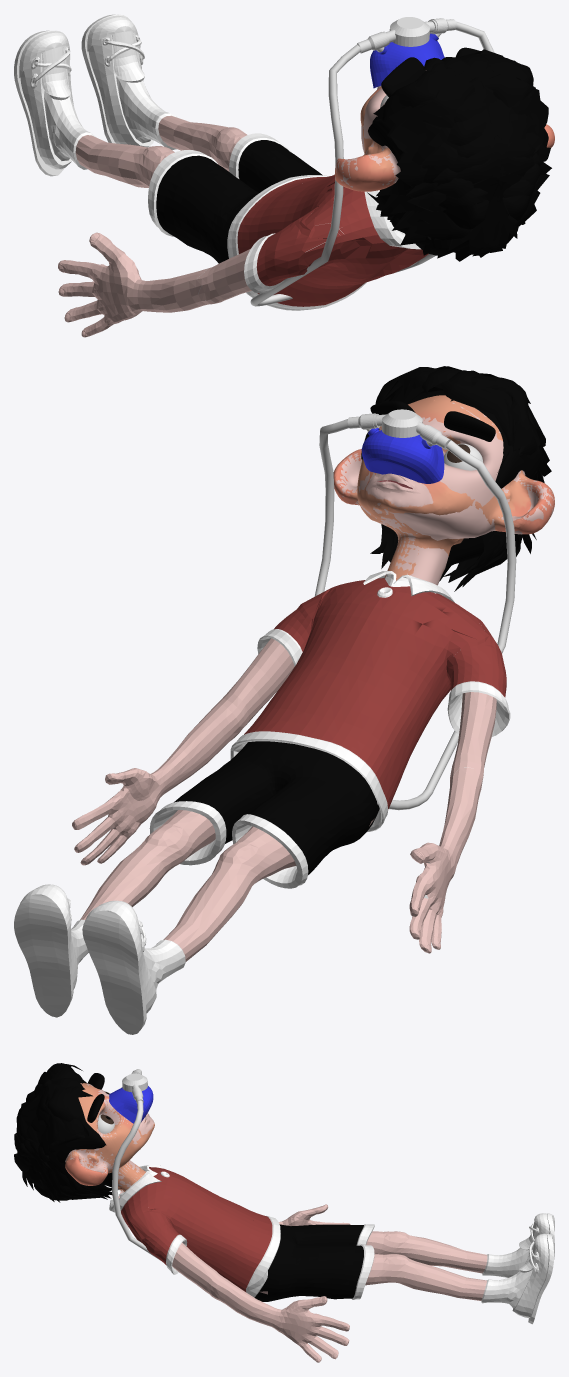
The model's file is nabilLaying.fbx.
The picture shows the model from 3 angles, top to bottom: view 1: azimuth 30°, elevation 25°; view 2: azimuth 150°, elevation 25°; view 3: azimuth 270°, elevation 25°; orthographic projection. The views are drawn at different scales.
Visible parts, largest first — view 1: badan nabil, Hair 2, Cube.001, Head, Sphere.004, Retopo_Head, Eyebrow, Cylinder, Cylinder.001, Retopo_Hair1; view 2: badan nabil, Hair 2, Head, Retopo_Head, Cube.001, Sphere.004, Eyebrow, Retopo_Hair1, Cylinder.001, Cylinder; view 3: badan nabil, Hair 2, Head, Retopo_Head, Cube.001, Sphere.004, Retopo_Hair1, Eyebrow.
Boxes of the visible parts, bbox=[...] form: badan nabil: bbox=[14, 14, 428, 337]; Hair 2: bbox=[367, 49, 551, 261]; Cube.001: bbox=[250, 21, 494, 306]; Head: bbox=[334, 86, 554, 191]; Sphere.004: bbox=[370, 37, 444, 88]; Retopo_Head: bbox=[335, 70, 426, 187]; Eyebrow: bbox=[381, 47, 480, 97]; Cylinder: bbox=[389, 17, 429, 46]; Cylinder.001: bbox=[357, 18, 456, 53]; Retopo_Hair1: bbox=[368, 118, 401, 170]; badan nabil: bbox=[14, 571, 510, 1034]; Hair 2: bbox=[370, 366, 551, 591]; Head: bbox=[333, 395, 554, 580]; Retopo_Head: bbox=[336, 402, 554, 585]; Cube.001: bbox=[276, 419, 516, 810]; Sphere.004: bbox=[361, 430, 444, 483]; Eyebrow: bbox=[370, 401, 495, 441]; Retopo_Hair1: bbox=[361, 390, 525, 542]; Cylinder.001: bbox=[347, 413, 450, 449]; Cylinder: bbox=[382, 409, 422, 437]; badan nabil: bbox=[109, 1165, 554, 1362]; Hair 2: bbox=[14, 1063, 121, 1202]; Head: bbox=[65, 1083, 154, 1192]; Retopo_Head: bbox=[65, 1083, 152, 1191]; Cube.001: bbox=[111, 1071, 179, 1272]; Sphere.004: bbox=[109, 1086, 153, 1123]; Retopo_Hair1: bbox=[56, 1122, 106, 1170]; Eyebrow: bbox=[87, 1073, 104, 1122].
Size of the model in its own units: 95.66 by 101 by 204.
